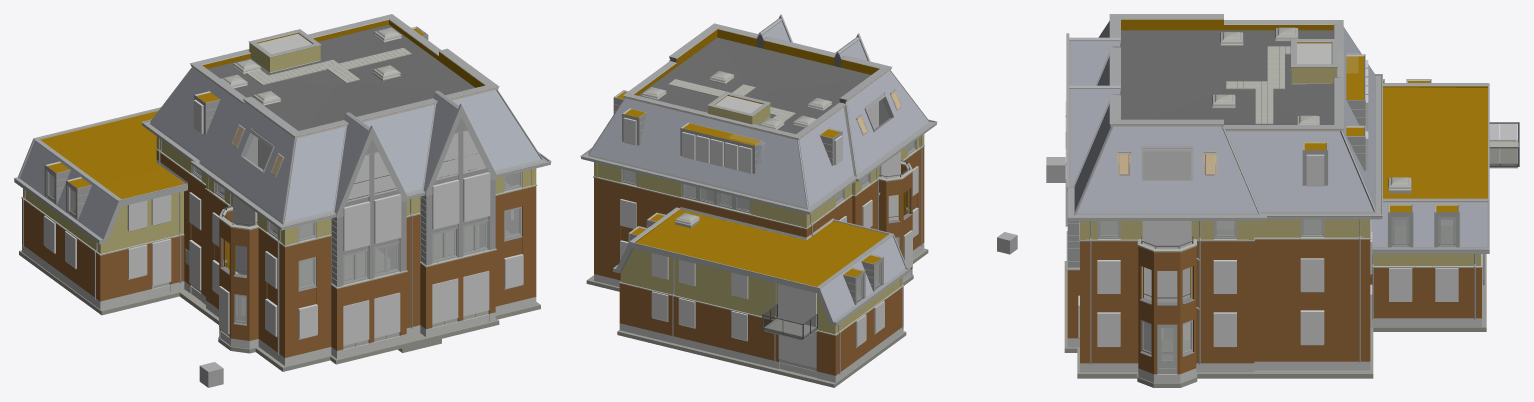
3 renders of one model, left to right at view 1: azimuth 30°, elevation 25°; view 2: azimuth 150°, elevation 25°; view 3: azimuth 270°, elevation 25°, orthographic. The views are drawn at different scales.
Parts seen in each view (by area): view 1: 18j3O$xcX2Ih_wQkZiN2od, 0OCXCn3OLEJPn9Ben$c09G, 1YsW3XlsH6jQAy3oVokVoI, 2SZgOSofP2PBFS$KAhUxu3, 073WUmvbzFVP7tMfJQovg6, 22CPiCHcj4Bxue2KiwGzsR, 084MuEGfD4UB54wB7sJMXL, 2raCbTgHb52vuE6qdpZRn2, 3hqyh3fov9vxvrX2KulWNx, 1tknVQg$jcQGLlmYxhrZlq, 1Gxll6B1U7YgSc0Q2yq5zA, 2Kc0O_KBDC0CH2mBZ6ePqI (+64 smaller); view 2: 1Gbp9IjqnCH8qFauUzhZdl, 18j3O$xcX2Ih_wQkZiN2od, 0OCXCn3OLEJPn9Ben$c09G, 1YsW3XlsH6jQAy3oVokVoI, 073WUmvbzFVP7tMfJQovg6, 2raCbTgHb52vuE6qdpZRn2, 00fSj8UXfAn8lUGu3HP6DA, 2DXRwGxjb2hAD7EnaJghPn, 0GqtzXOkvIqfkJk8AbAagN, 1i40eUabT0jBHvLTD9ciNT, 1fGrQYIYP4IxWBDX0HVDV6, 2$jpBsfqD9mwGiQ1MIMyCK (+41 smaller); view 3: 18j3O$xcX2Ih_wQkZiN2od, 0OCXCn3OLEJPn9Ben$c09G, 02XXlov8DEKQFyDiiYoPhg, 2N2M5zi3L3ghszlmPoJ3z$, 1ZNir8Ykb5_eoXCXVaPrPD, 2cIQdivwH0euQ3BKDTFgOA, 2WW_2E6Wr1XPPZ0X1qKYGa, 0UxNakFZTANgAC$rAiuj6F, 2Dd7N80nT6xvZLlvwl32zj, 2PNj2dMNT9wOnOYdNWAJQh, 1Gbp9IjqnCH8qFauUzhZdl, 3KZ1A31pLDZgv61Pr5ILuZ (+76 smaller).
Part boxes in pixels (left/top/right/bottom): 18j3O$xcX2Ih_wQkZiN2od: left=207, top=24, right=474, bottom=130; 0OCXCn3OLEJPn9Ben$c09G: left=40, top=111, right=164, bottom=183; 1YsW3XlsH6jQAy3oVokVoI: left=200, top=102, right=294, bottom=221; 2SZgOSofP2PBFS$KAhUxu3: left=285, top=126, right=345, bottom=221; 073WUmvbzFVP7tMfJQovg6: left=151, top=67, right=242, bottom=158; 22CPiCHcj4Bxue2KiwGzsR: left=452, top=90, right=540, bottom=170; 084MuEGfD4UB54wB7sJMXL: left=363, top=105, right=434, bottom=192; 2raCbTgHb52vuE6qdpZRn2: left=20, top=141, right=117, bottom=238; 3hqyh3fov9vxvrX2KulWNx: left=101, top=168, right=184, bottom=199; 1tknVQg$jcQGLlmYxhrZlq: left=374, top=194, right=401, bottom=243; 1Gxll6B1U7YgSc0Q2yq5zA: left=463, top=172, right=490, bottom=222; 2Kc0O_KBDC0CH2mBZ6ePqI: left=343, top=201, right=370, bottom=251; 1Gbp9IjqnCH8qFauUzhZdl: left=589, top=98, right=806, bottom=207; 18j3O$xcX2Ih_wQkZiN2od: left=638, top=37, right=870, bottom=134; 0OCXCn3OLEJPn9Ben$c09G: left=636, top=209, right=869, bottom=286; 1YsW3XlsH6jQAy3oVokVoI: left=847, top=70, right=928, bottom=174; 073WUmvbzFVP7tMfJQovg6: left=799, top=107, right=853, bottom=206; 2raCbTgHb52vuE6qdpZRn2: left=820, top=236, right=905, bottom=320; 00fSj8UXfAn8lUGu3HP6DA: left=613, top=242, right=836, bottom=325; 2DXRwGxjb2hAD7EnaJghPn: left=617, top=330, right=841, bottom=387; 0GqtzXOkvIqfkJk8AbAagN: left=778, top=284, right=816, bottom=326; 1i40eUabT0jBHvLTD9ciNT: left=695, top=264, right=732, bottom=305; 1fGrQYIYP4IxWBDX0HVDV6: left=619, top=323, right=779, bottom=368; 2$jpBsfqD9mwGiQ1MIMyCK: left=695, top=302, right=731, bottom=342; 18j3O$xcX2Ih_wQkZiN2od: left=1120, top=30, right=1333, bottom=124; 0OCXCn3OLEJPn9Ben$c09G: left=1383, top=87, right=1487, bottom=198; 02XXlov8DEKQFyDiiYoPhg: left=1077, top=126, right=1257, bottom=213; 2N2M5zi3L3ghszlmPoJ3z$: left=1226, top=131, right=1373, bottom=211; 1ZNir8Ykb5_eoXCXVaPrPD: left=1371, top=202, right=1487, bottom=246; 2cIQdivwH0euQ3BKDTFgOA: left=1324, top=252, right=1370, bottom=304; 2WW_2E6Wr1XPPZ0X1qKYGa: left=1254, top=252, right=1300, bottom=304; 0UxNakFZTANgAC$rAiuj6F: left=1070, top=89, right=1120, bottom=185; 2Dd7N80nT6xvZLlvwl32zj: left=1254, top=304, right=1300, bottom=350; 2PNj2dMNT9wOnOYdNWAJQh: left=1324, top=304, right=1370, bottom=350; 1Gbp9IjqnCH8qFauUzhZdl: left=1342, top=28, right=1375, bottom=209; 3KZ1A31pLDZgv61Pr5ILuZ: left=1077, top=362, right=1373, bottom=378.
Size of what is drawn, in the model's own units: 23.95 by 15.06 by 24.47.
